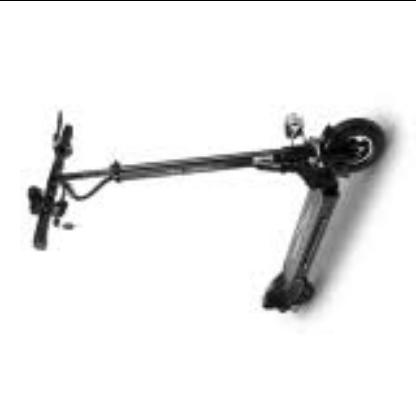bike: (23, 108, 387, 313)
